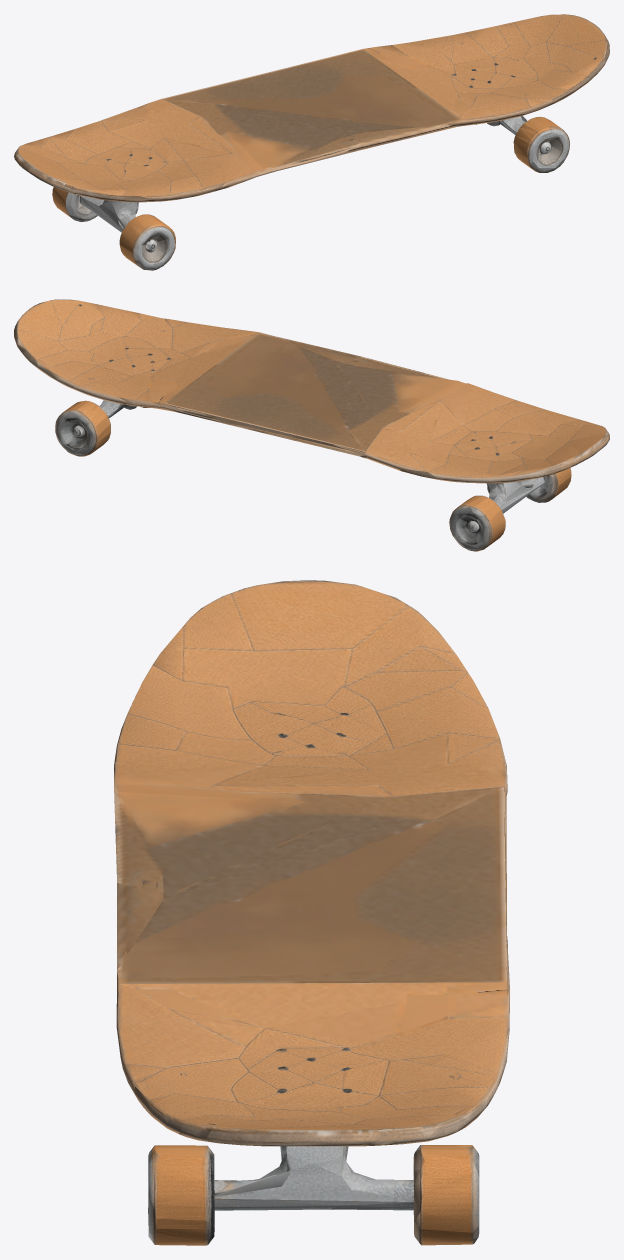
File: skateboard.glb
The picture shows the model from 3 angles, top to bottom: view 1: azimuth 30°, elevation 25°; view 2: azimuth 150°, elevation 25°; view 3: azimuth 270°, elevation 25°; orthographic projection. The views are drawn at different scales.
Parts seen in each view (by area): view 1: mesh_node; view 2: mesh_node; view 3: mesh_node.
Boxes of the visible parts, x1=… form: mesh_node: x1=14, y1=14, x2=609, y2=270; mesh_node: x1=14, y1=299, x2=609, y2=551; mesh_node: x1=114, y1=580, x2=509, y2=1245.
Size of the model in its own units: 1.9 by 0.3098 by 0.5706.
1 material, 1 textured.
